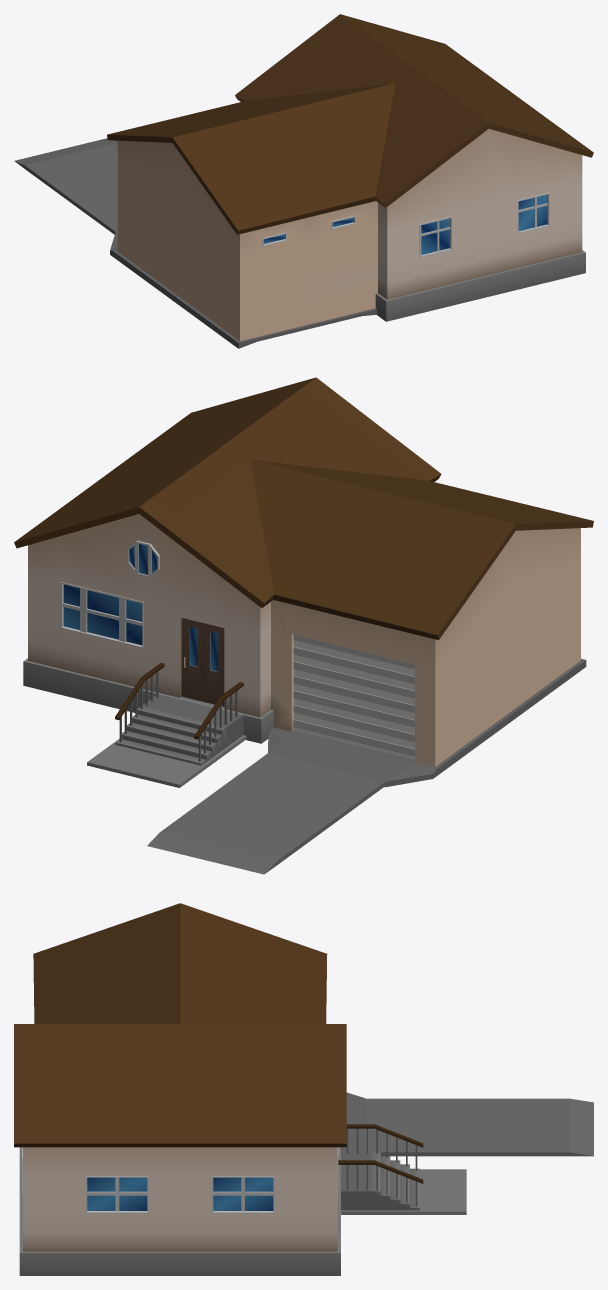
Rendered from cottage_6.fbx.
3 renders of one model, top to bottom at view 1: azimuth 30°, elevation 25°; view 2: azimuth 150°, elevation 25°; view 3: azimuth 270°, elevation 25°, orthographic. The views are drawn at different scales.
Visible parts, largest first — view 1: cottage_6; view 2: cottage_6; view 3: cottage_6.
Boxes of the visible parts, left/top/right/bottom form: cottage_6: left=14, top=14, right=593, bottom=348; cottage_6: left=14, top=377, right=593, bottom=874; cottage_6: left=14, top=903, right=593, bottom=1275.
Size of the model in its own units: 14.09 by 18.23 by 6.84.
